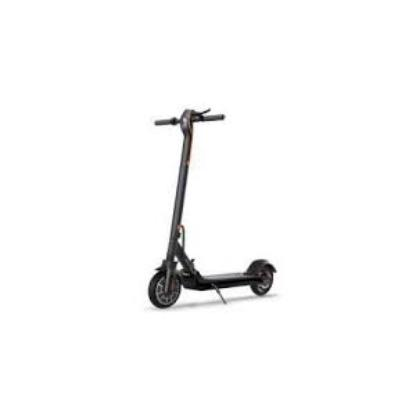bike: (147, 110, 277, 310), (148, 225, 278, 310)
